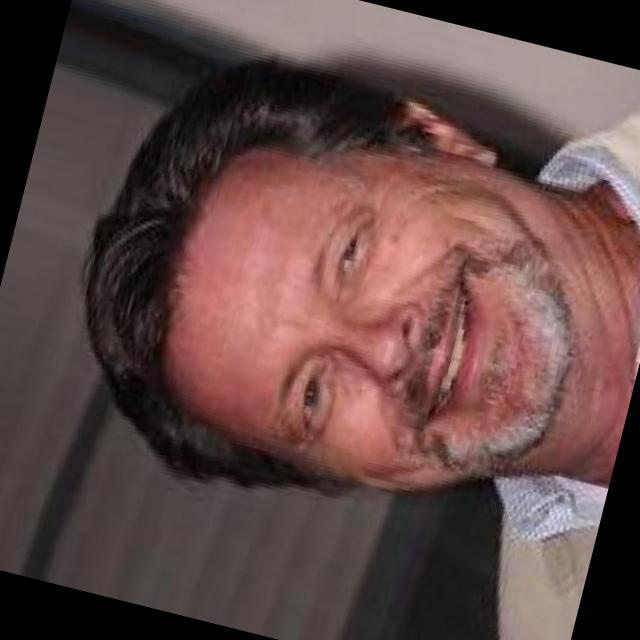bareface: (92, 100, 590, 534)
